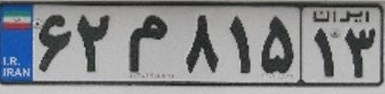character: (119, 9, 175, 77), (176, 11, 226, 77), (252, 10, 299, 80), (71, 8, 118, 76), (32, 11, 75, 77), (222, 9, 260, 80), (339, 24, 380, 81), (309, 25, 341, 81)
